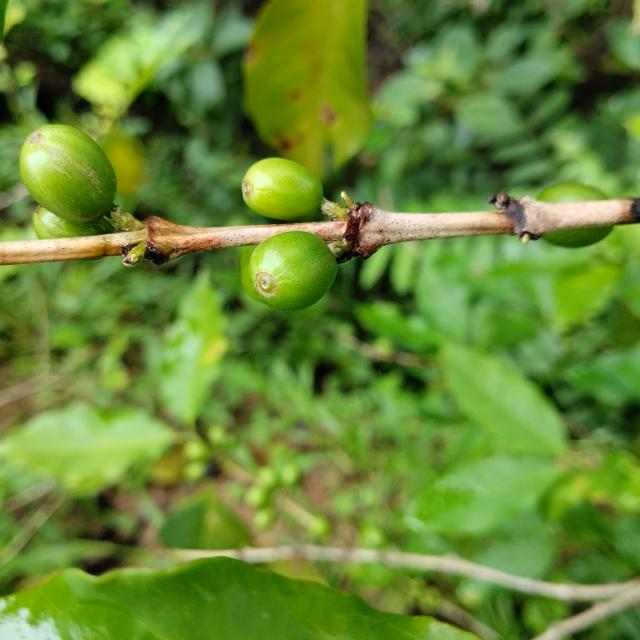green: (19, 124, 116, 222), (248, 231, 338, 311), (242, 157, 323, 220), (32, 205, 114, 239), (543, 226, 613, 248), (538, 182, 608, 202)
